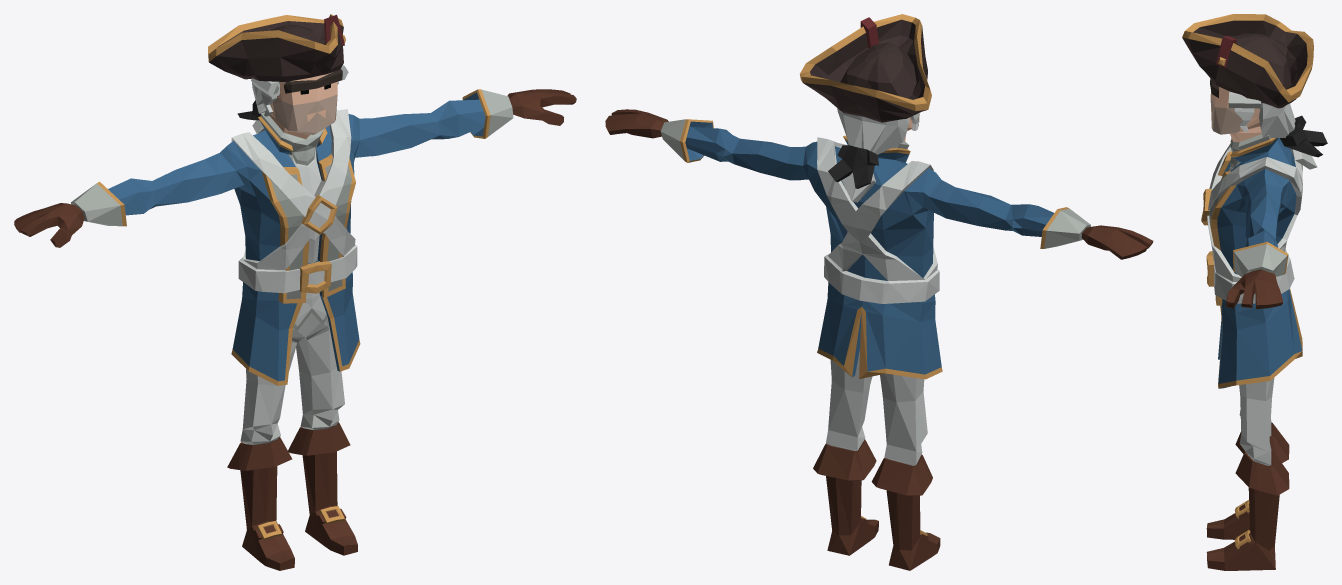
Rendered from policia.fbx.
The picture shows the model from 3 angles, left to right: view 1: azimuth 30°, elevation 25°; view 2: azimuth 150°, elevation 25°; view 3: azimuth 270°, elevation 25°; orthographic projection. The views are drawn at different scales.
Visible parts, largest first — view 1: Character_English_Soldier_01; view 2: Character_English_Soldier_01; view 3: Character_English_Soldier_01.
Part boxes in pixels (left/top/right/bottom): Character_English_Soldier_01: left=14, top=14, right=576, bottom=570; Character_English_Soldier_01: left=605, top=14, right=1153, bottom=570; Character_English_Soldier_01: left=1182, top=14, right=1327, bottom=570.
Bounding box in the file's own units: 80.61 × 18.66 × 74.1.
1 material, 1 textured.
